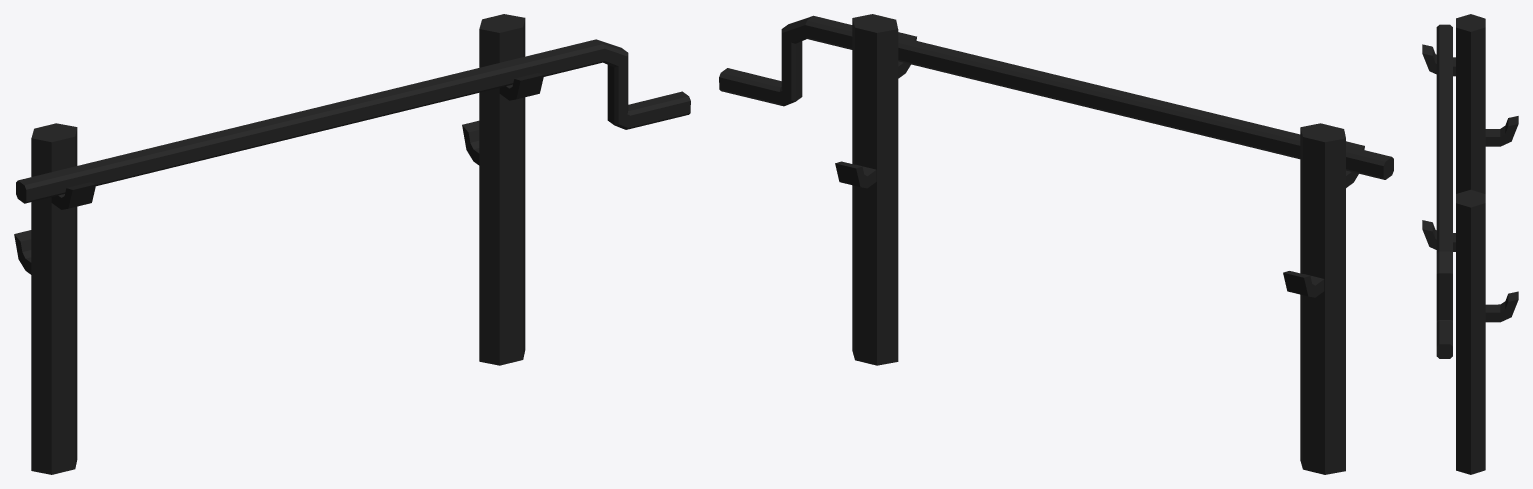
The model's file is Spit.fbx.
3 renders of one model, left to right at view 1: azimuth 30°, elevation 25°; view 2: azimuth 150°, elevation 25°; view 3: azimuth 270°, elevation 25°, orthographic. The views are drawn at different scales.
Parts seen in each view (by area): view 1: racks_for_split, Spit; view 2: racks_for_split, Spit; view 3: racks_for_split, Spit.
Boxes of the visible parts, left/top/right/bottom form: racks_for_split: left=14, top=14, right=543, bottom=474; Spit: left=16, top=39, right=690, bottom=203; racks_for_split: left=835, top=14, right=1364, bottom=474; Spit: left=719, top=15, right=1393, bottom=179; racks_for_split: left=1422, top=14, right=1518, bottom=474; Spit: left=1436, top=24, right=1452, bottom=358.
Size of the model in its own units: 178 by 85.32 by 27.87.
